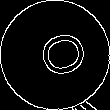O_W: (24, 26, 86, 84)
